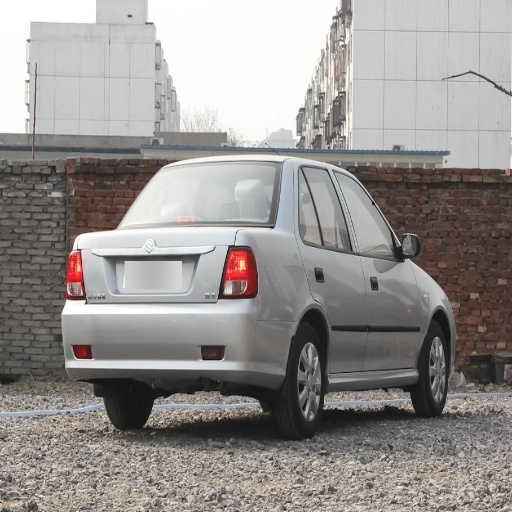back_bumper: (61, 296, 294, 387)
back_right_door: (284, 161, 366, 373)
